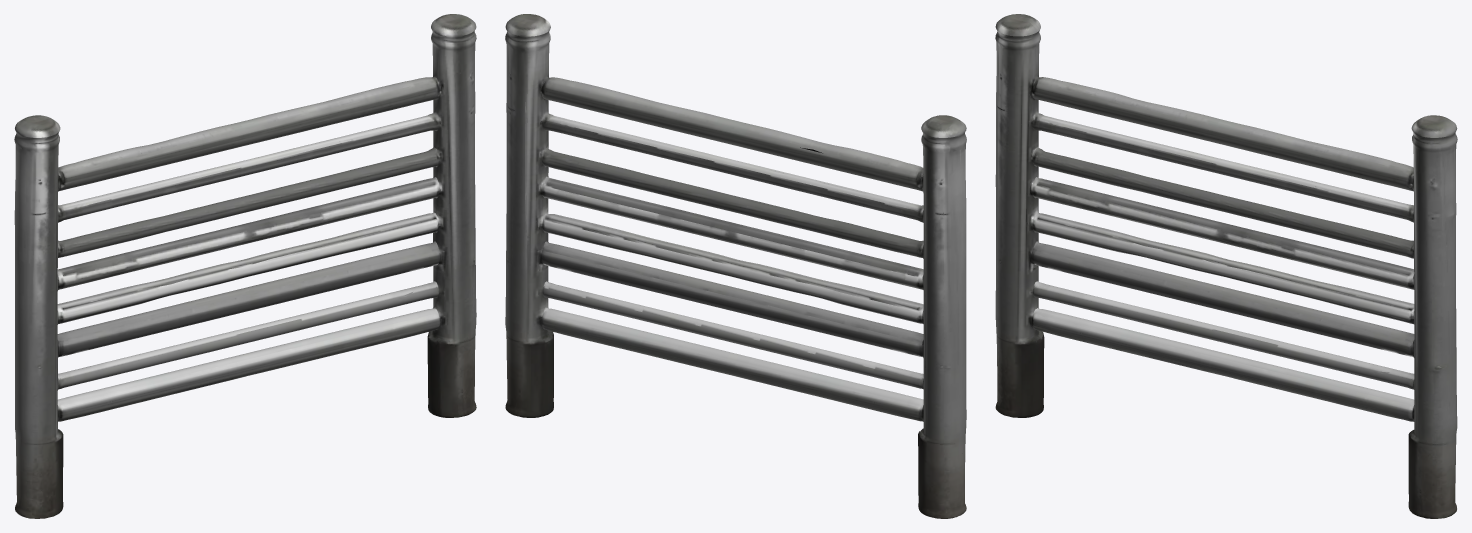
The model's file is cattle-gate.glb.
The picture shows the model from 3 angles, left to right: view 1: azimuth 30°, elevation 25°; view 2: azimuth 150°, elevation 25°; view 3: azimuth 330°, elevation 25°; orthographic projection.
Parts seen in each view (by area): view 1: cowninja-cattle-gate; view 2: cowninja-cattle-gate; view 3: cowninja-cattle-gate.
Part boxes in pixels (<box>): cowninja-cattle-gate: <box>14,14,476,518</box>; cowninja-cattle-gate: <box>505,14,966,518</box>; cowninja-cattle-gate: <box>995,14,1457,518</box>.
Bounding box in the file's own units: 3 × 2.45 × 0.2655.
Materials: 1 (1 with a texture image).
